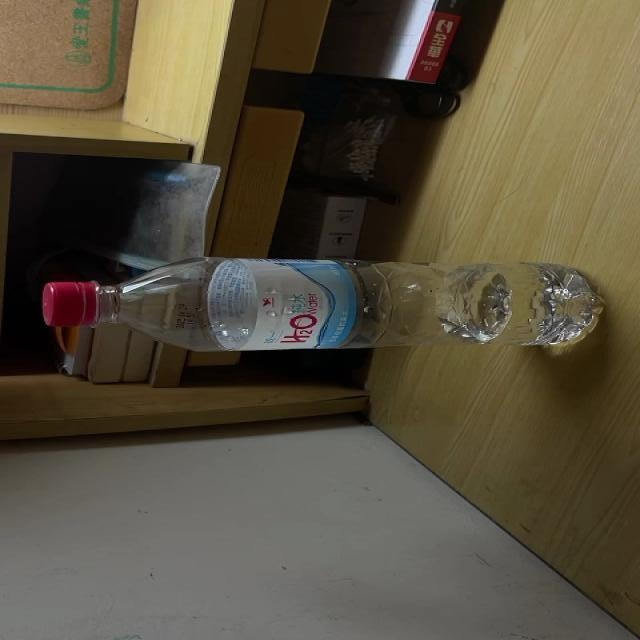Water: (40, 260, 604, 352)
